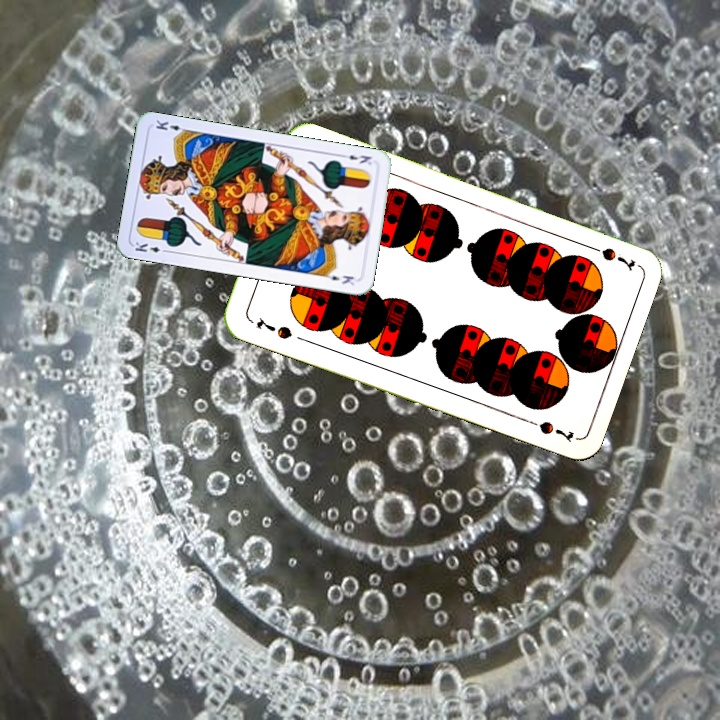EK: (131, 238, 171, 255), (337, 150, 374, 167)
S7: (582, 240, 638, 274), (252, 313, 295, 342)
